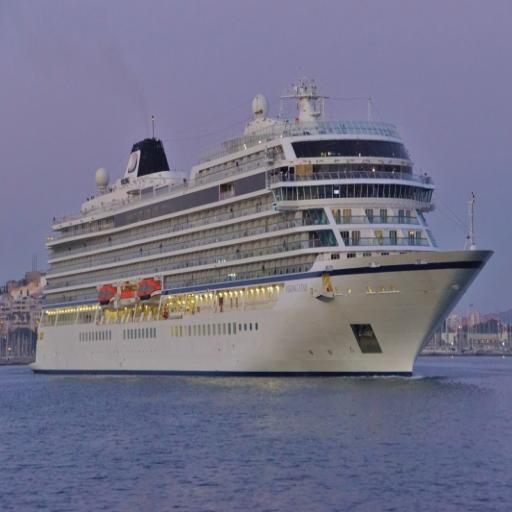cruises: (25, 68, 498, 386)
